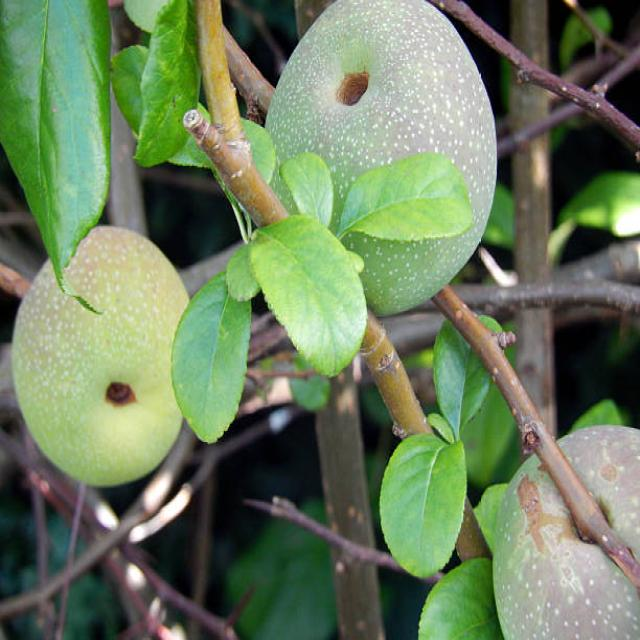Unripe: (11, 225, 195, 484)
